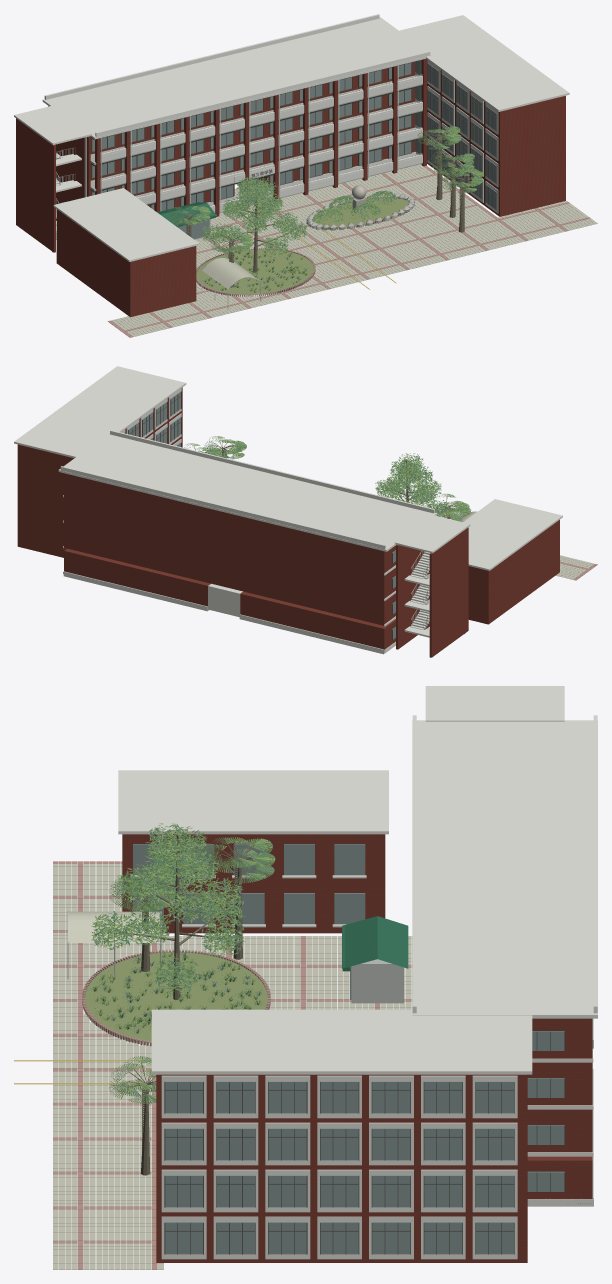
File: teaching3.glb
3 views of the same model, one above another, from view 1: azimuth 30°, elevation 25°; view 2: azimuth 150°, elevation 25°; view 3: azimuth 270°, elevation 25° (orthographic). The views are drawn at different scales.
Visible parts, largest first — view 1: grid paving.001, main projecting cornice, right classroom wing, classroom glazing, two storey annex, right wing cornice, continuous red brick piers, stair red brick blade walls, annex white cornice, white gallery solid balustrade, grid paving, balustrade raised panel (+32 smaller); view 2: upper classroom block, main projecting cornice, right wing cornice, stair red brick blade walls, right classroom wing, two storey annex, annex white cornice, ground classrooms left, ground classrooms right, roof parapet, white lower plinth, stair tower flat canopy (+15 smaller); view 3: main projecting cornice, wing broad windows, grid paving.001, right wing cornice, wing white window surrounds, right classroom wing, annex white cornice, two storey annex, planted island lawn, grid paving, annex windows, upper classroom block (+24 smaller).
Boxes of the visible parts, x1,y1,x2,y2 form: grid paving.001: [111, 164, 597, 336]; main projecting cornice: [42, 17, 431, 139]; right classroom wing: [427, 60, 565, 216]; classroom glazing: [92, 62, 411, 211]; two storey annex: [56, 209, 196, 317]; right wing cornice: [399, 15, 569, 111]; continuous red brick piers: [95, 59, 426, 216]; stair red brick blade walls: [16, 118, 90, 252]; annex white cornice: [53, 188, 199, 261]; white gallery solid balustrade: [100, 75, 422, 212]; grid paving: [108, 164, 590, 337]; balustrade raised panel: [101, 78, 421, 210]; upper classroom block: [64, 473, 396, 625]; main projecting cornice: [58, 433, 437, 551]; right wing cornice: [14, 366, 186, 458]; stair red brick blade walls: [396, 527, 468, 657]; right classroom wing: [17, 387, 182, 557]; two storey annex: [468, 520, 559, 624]; annex white cornice: [463, 499, 562, 570]; ground classrooms left: [240, 591, 395, 649]; ground classrooms right: [64, 548, 210, 606]; roof parapet: [60, 430, 434, 549]; white lower plinth: [63, 571, 395, 654]; stair tower flat canopy: [394, 515, 470, 553]; main projecting cornice: [412, 720, 597, 1018]; wing broad windows: [165, 1081, 514, 1254]; grid paving.001: [53, 864, 412, 1269]; right wing cornice: [151, 1009, 532, 1074]; wing white window surrounds: [161, 1075, 517, 1259]; right classroom wing: [156, 1074, 527, 1262]; annex white cornice: [118, 770, 388, 834]; two storey annex: [122, 834, 385, 933]; planted island lawn: [85, 952, 267, 1042]; grid paving: [53, 861, 412, 1269]; annex windows: [133, 844, 365, 924]; upper classroom block: [527, 1018, 592, 1152].
Bounding box in the file's own units: 62.45 × 14.82 × 37.75.
19 materials, 1 textured.
